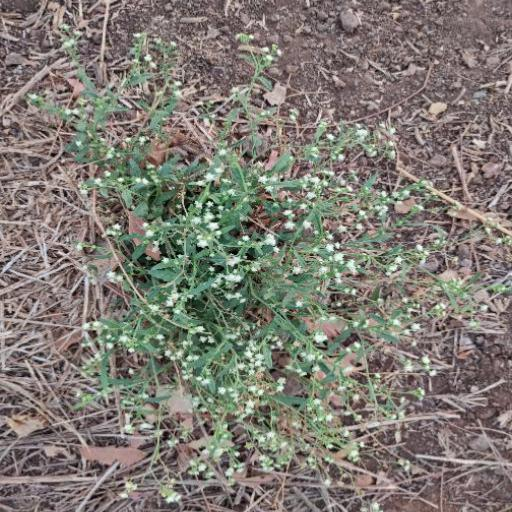weed: (59, 40, 449, 475)
